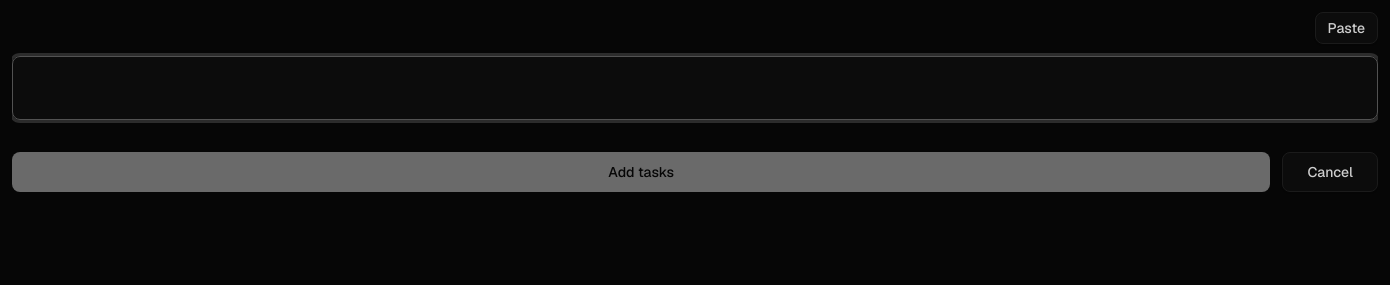
Test: Bulk Capture Flow › calculates correct position for tasks
The image size is (1390, 285).
Later steps or results of the test are not shown.
Type "New Task" into the text box at (695, 88), box [12,56,1378,120]
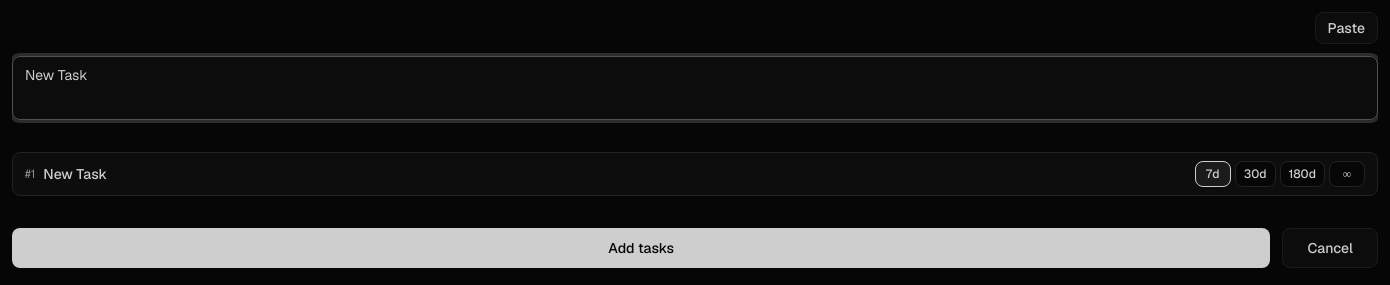
Expected: the text "New Task" is shown, [43,165,107,183]
